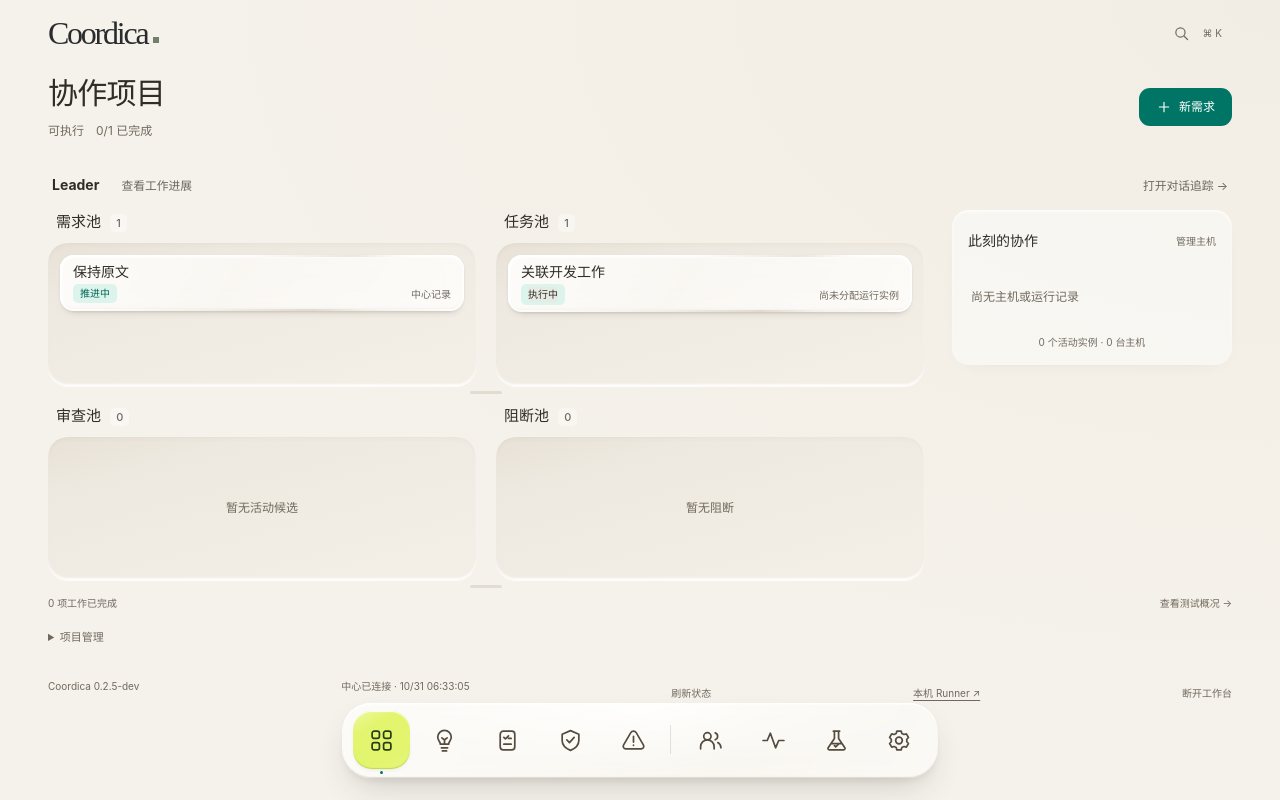
Scenario: opens a real homepage requirement without writing, preserves a rejected draft, and acknowledges only accepted writes
Expected: the heading "协作项目" is shown, [48,74,165,113]
Expected: the link "需求池" is shown, [56,212,101,231]
Click the link with aria-label "提交需求" at x=1186, y=107, box [1139,88,1232,126]
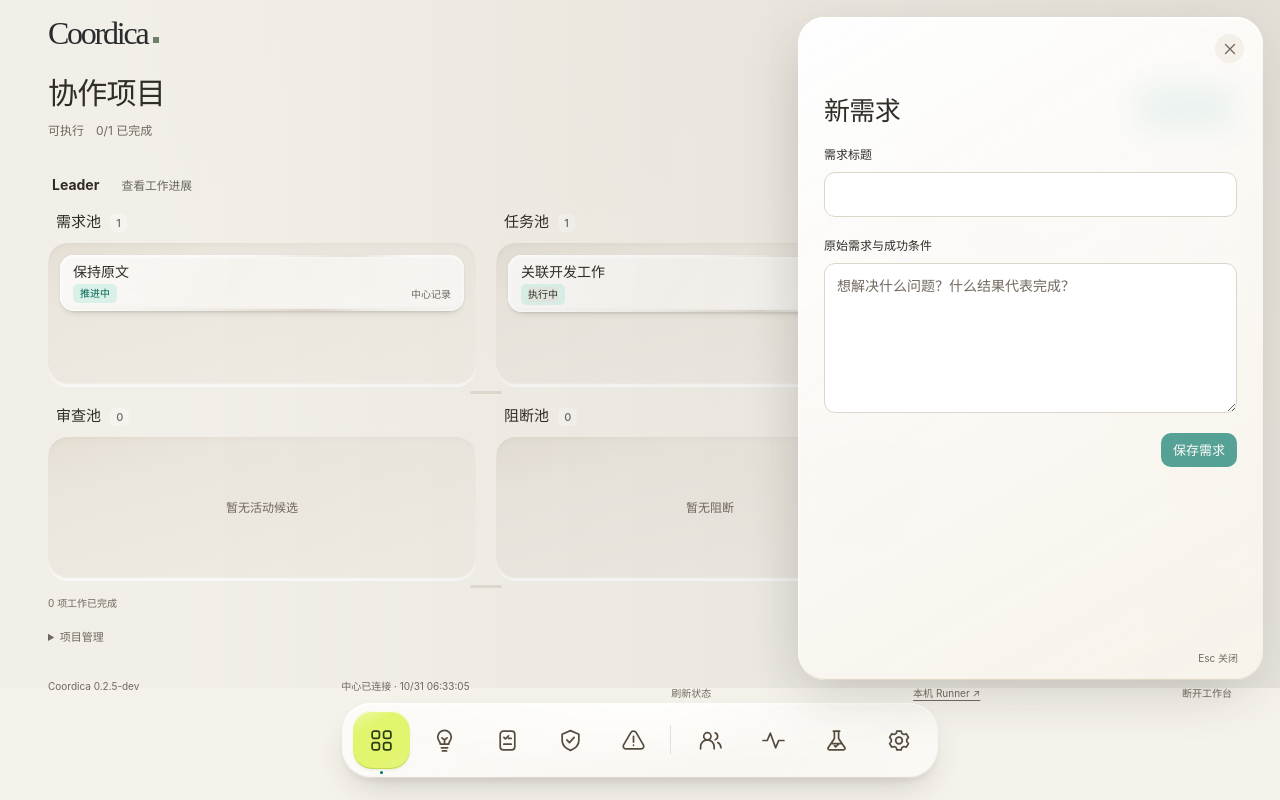
Expected: the button "保存需求" is disabled, [1161,433,1237,467]
Type "  一项新需求  " into the field labelled "需求标题" at x=1030, y=195, box [824,172,1237,217]
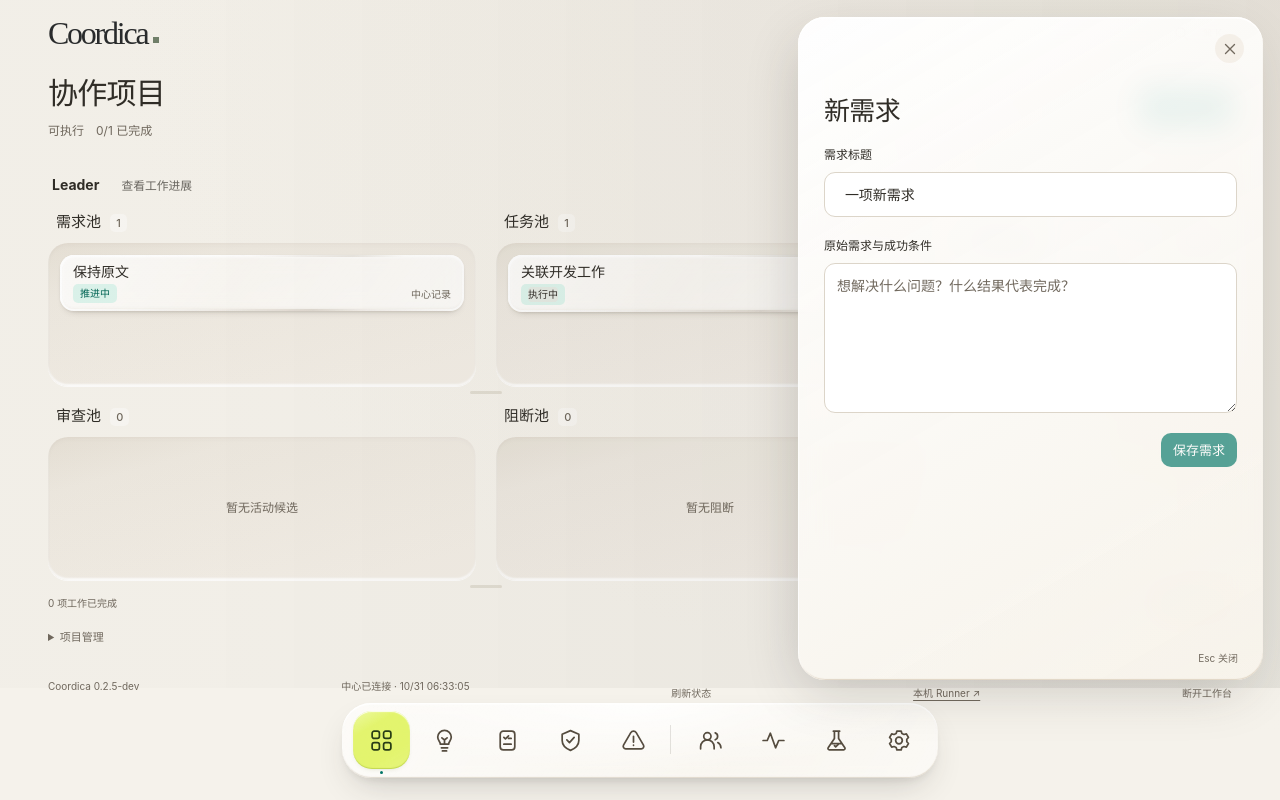
Type "用户的原始要求" into the text box labelled "原始需求与成功条件" at x=1030, y=338, box [824,263,1237,413]
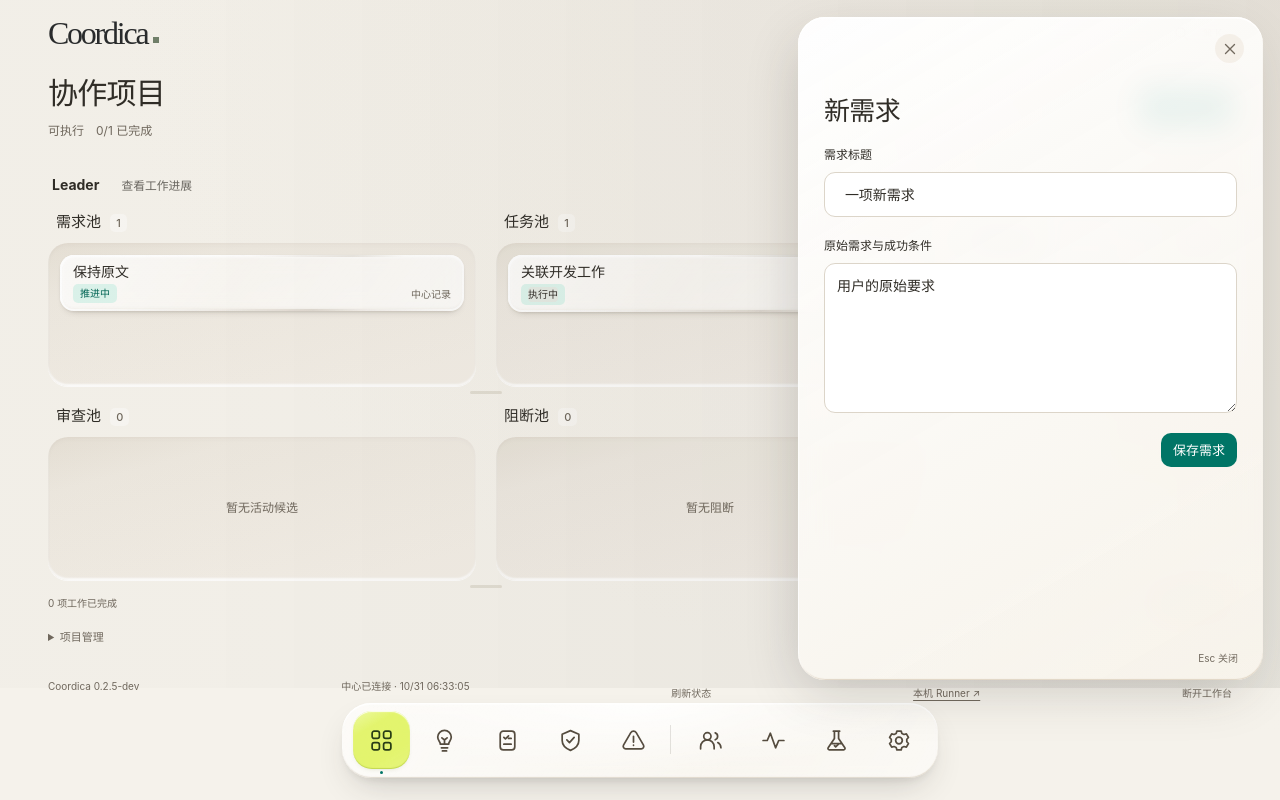
Click the button "保存需求" at x=1199, y=450, box [1161,433,1237,467]
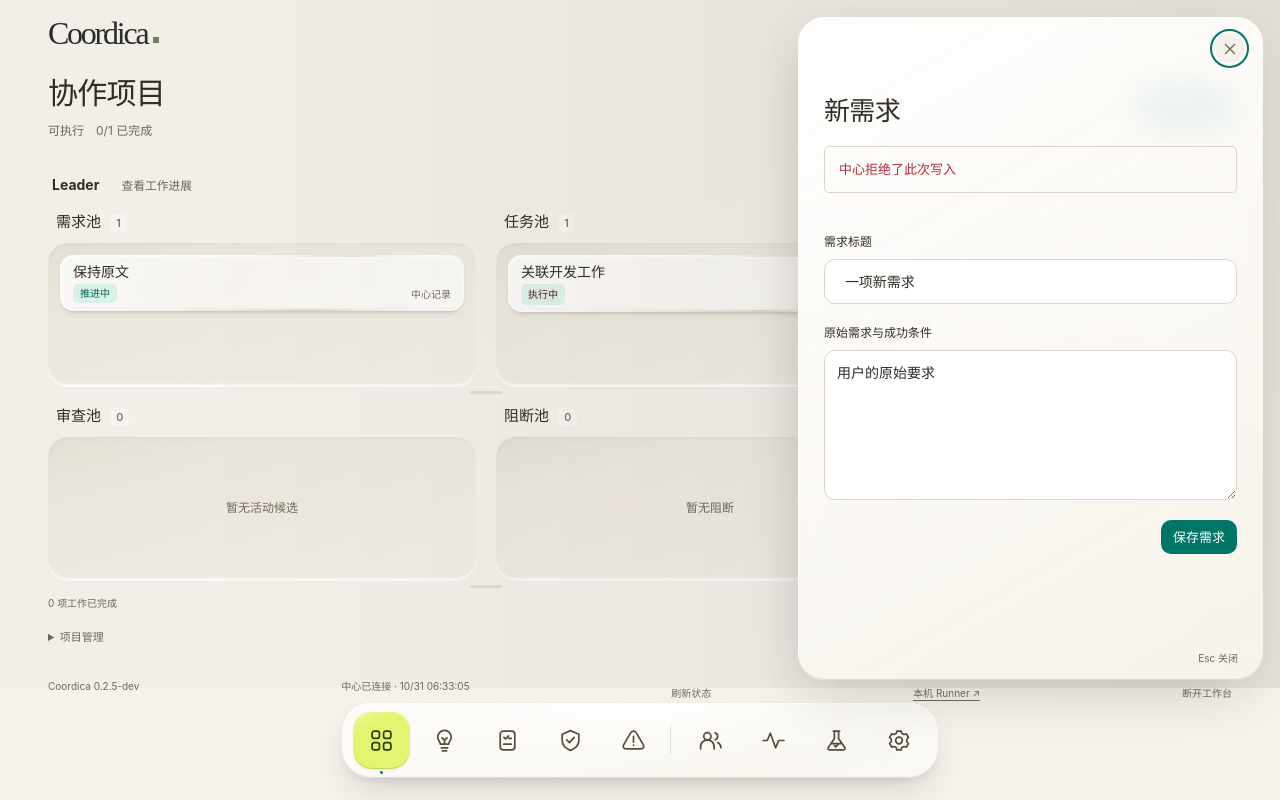
Expected: the text "需求已记录。" is not shown
Expected: the message "中心拒绝了此次写入" is shown, [824,146,1237,194]
Click the button "保存需求" at x=1199, y=538, box [1161,520,1237,554]
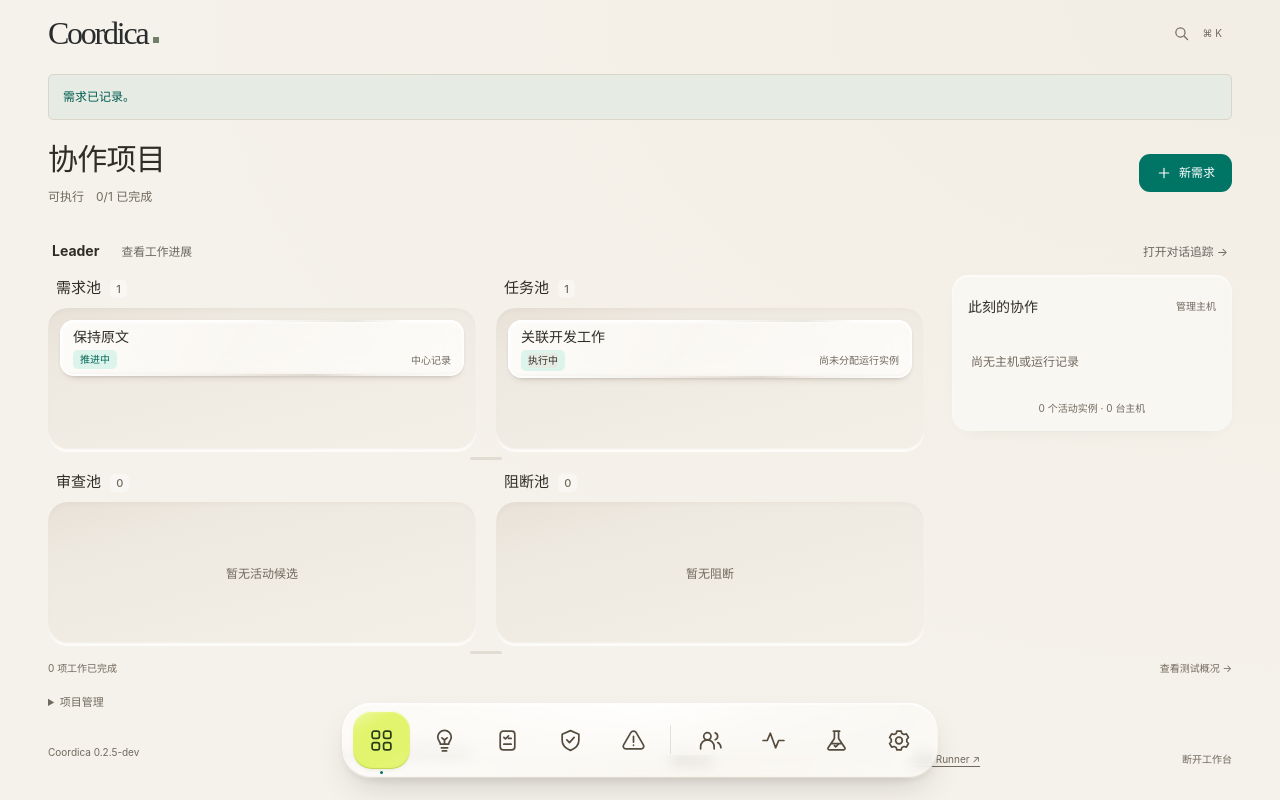
Expected: the text "需求已记录。" is shown, [48,74,1232,120]
Expected: the dialog is gone
